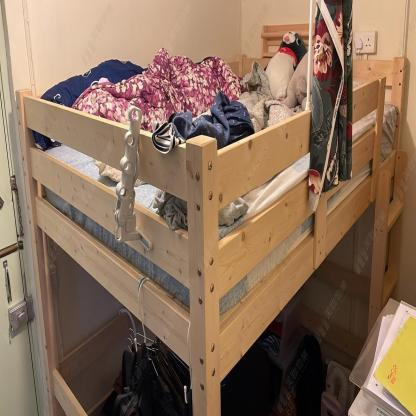Bed Frame: (15, 6, 408, 416)
